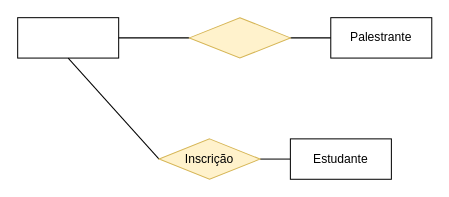
Image size: 449x197. Some labels were removed from this diagram. Here are the shapes that lost their labels. From the top down, the centre of each, then its label:
At point (68, 37): "Evento".
At point (239, 37): "Mininstra".
